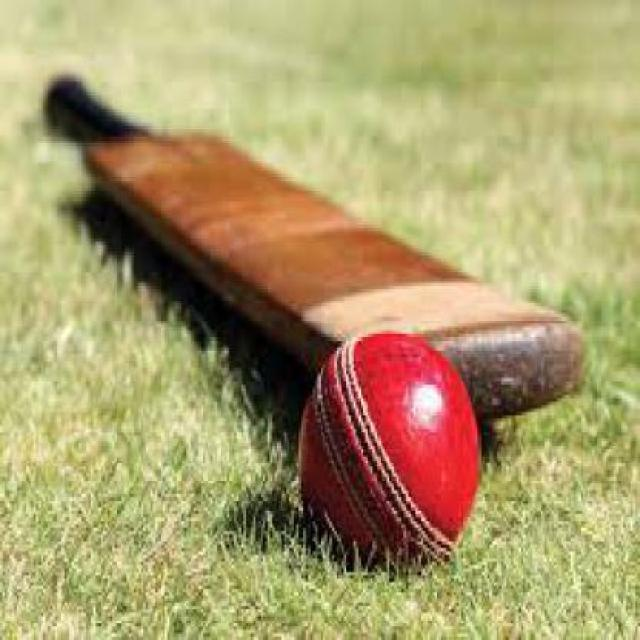ball: (243, 292, 502, 572)
